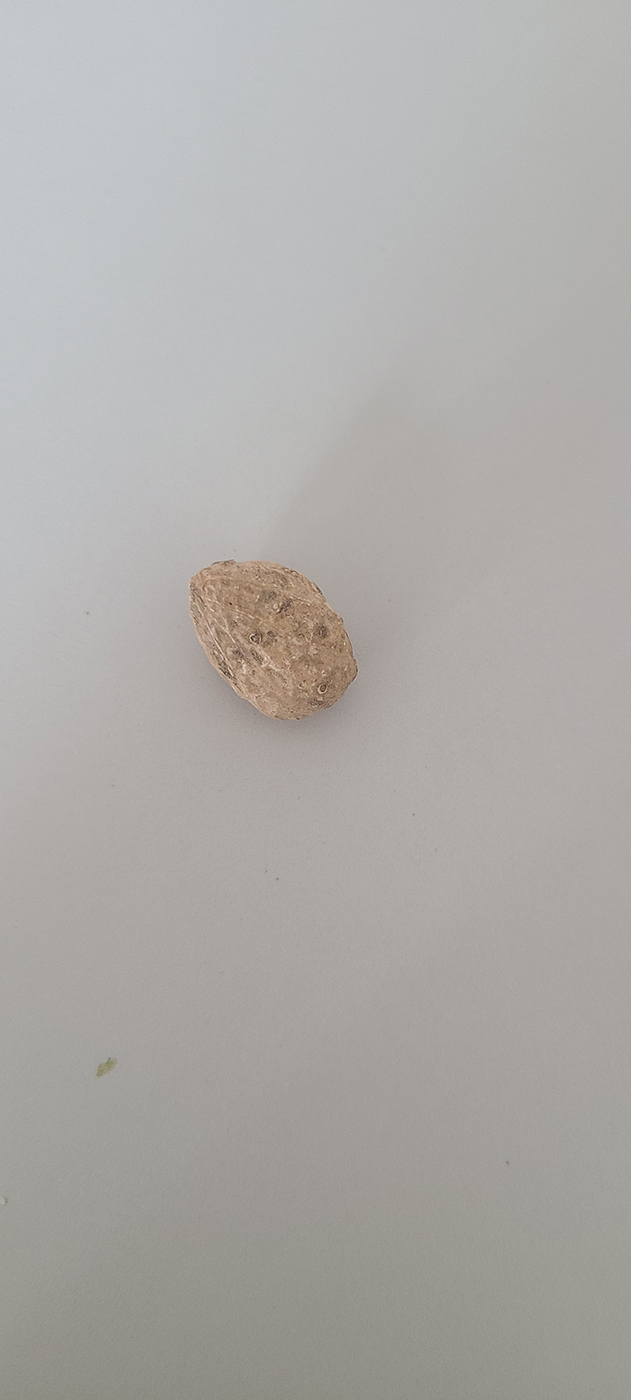h: (189, 556, 359, 722)
